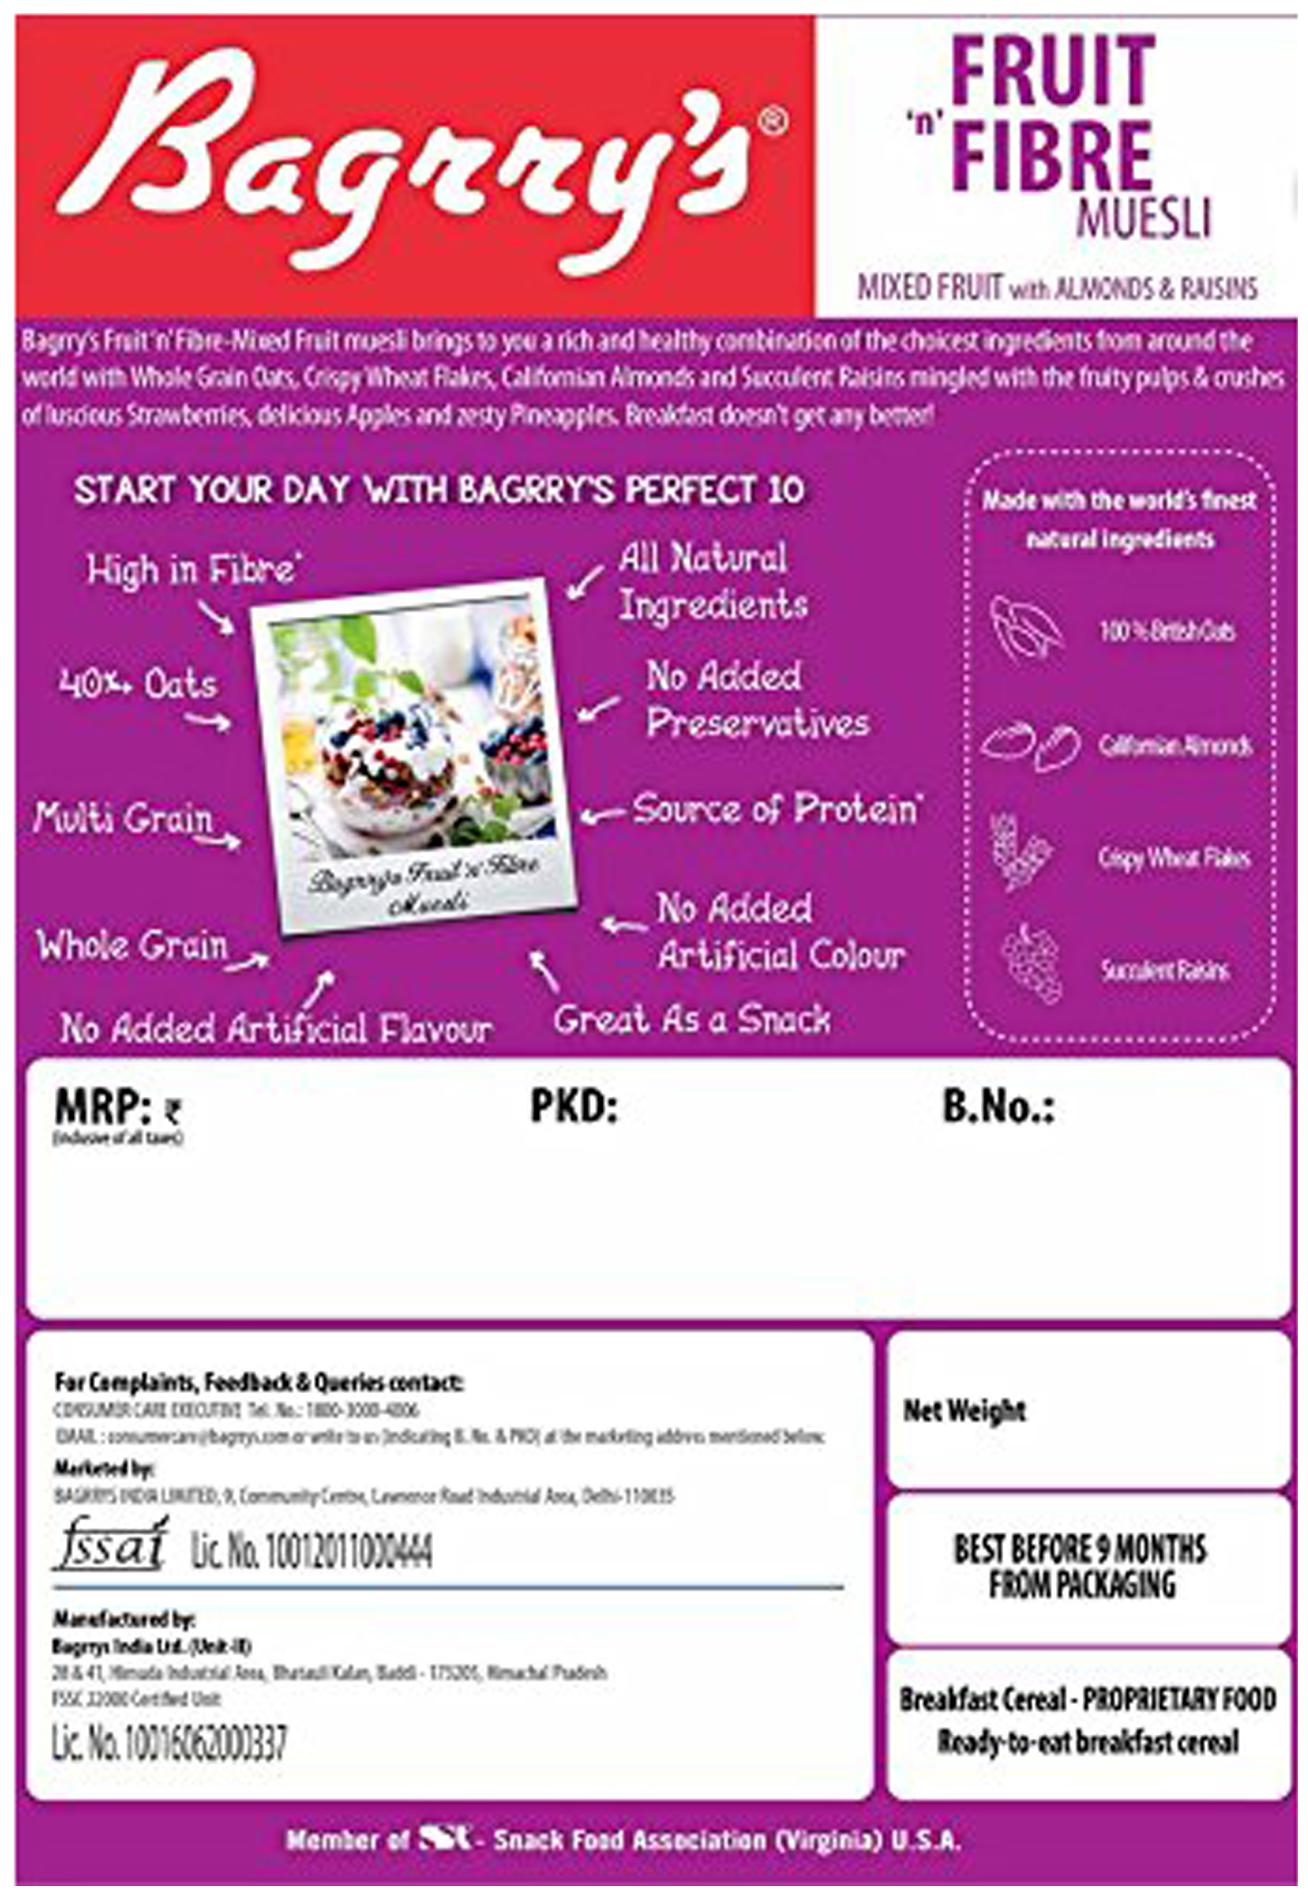fssai: (49, 1513, 171, 1575)
